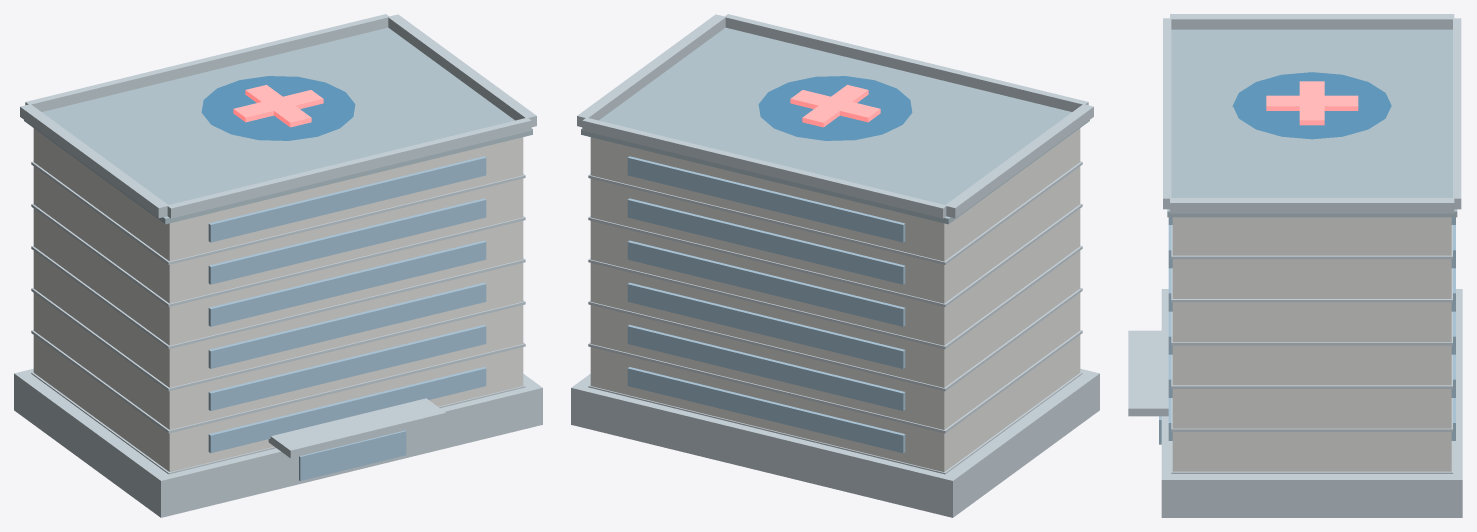
The model's file is hospital_200.gltf.
3 renders of one model, left to right at view 1: azimuth 30°, elevation 25°; view 2: azimuth 150°, elevation 25°; view 3: azimuth 270°, elevation 25°, orthographic. The views are drawn at different scales.
Parts seen in each view (by area): view 1: main_body, roof_slab, ground_slab, helipad_ring, win_front_f2, win_front_f4, win_front_f1, win_front_f3, win_front_f5, parapet_N, win_front_f0, parapet_S (+12 smaller); view 2: main_body, roof_slab, ground_slab, helipad_ring, win_back_f0, win_back_f2, win_back_f4, win_back_f1, win_back_f3, win_back_f5, parapet_S, parapet_N (+10 smaller); view 3: main_body, roof_slab, ground_slab, helipad_ring, parapet_E, parapet_W, er_canopy, parapet_S, parapet_N, floor_band_f5, cross_v, floor_band_f4 (+5 smaller).
Part boxes in pixels (box(x1,y1,x2,y2)): main_body: box(33, 128, 523, 471); roof_slab: box(24, 27, 532, 224); ground_slab: box(14, 368, 542, 517); helipad_ring: box(201, 76, 355, 140); win_front_f2: box(208, 282, 486, 368); win_front_f4: box(208, 198, 486, 284); win_front_f1: box(208, 324, 486, 410); win_front_f3: box(208, 240, 486, 326); win_front_f5: box(208, 156, 486, 242); parapet_N: box(167, 117, 531, 218); win_front_f0: box(208, 367, 486, 453); parapet_S: box(25, 14, 389, 111); main_body: box(590, 128, 1080, 471); roof_slab: box(581, 27, 1089, 224); ground_slab: box(571, 368, 1099, 517); helipad_ring: box(758, 76, 912, 140); win_back_f0: box(627, 367, 905, 453); win_back_f2: box(627, 282, 905, 368); win_back_f4: box(627, 198, 905, 284); win_back_f1: box(627, 324, 905, 410); win_back_f3: box(627, 240, 905, 326); win_back_f5: box(627, 156, 905, 242); parapet_S: box(582, 117, 946, 218); parapet_N: box(724, 14, 1088, 111); main_body: box(1172, 217, 1451, 471); roof_slab: box(1167, 29, 1457, 217); ground_slab: box(1161, 289, 1462, 517); helipad_ring: box(1232, 72, 1391, 139); parapet_E: box(1170, 198, 1454, 213); parapet_W: box(1170, 14, 1454, 29); er_canopy: box(1128, 330, 1168, 416); parapet_S: box(1453, 18, 1461, 209); parapet_N: box(1163, 18, 1171, 209); floor_band_f5: box(1171, 225, 1452, 259); cross_v: box(1266, 95, 1358, 110); floor_band_f4: box(1171, 268, 1452, 302).
Bounding box in the file's own units: 29.81 × 23.41 × 22.08.
